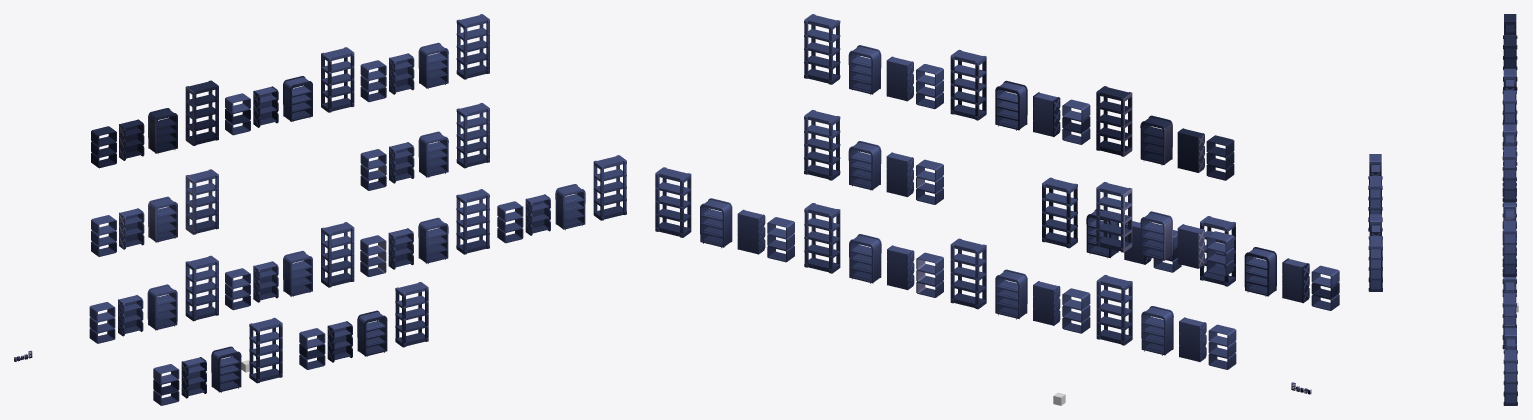
Rendered from Shelf5Layer_2 (1).fbx.
3 renders of one model, left to right at view 1: azimuth 30°, elevation 25°; view 2: azimuth 150°, elevation 25°; view 3: azimuth 270°, elevation 25°, orthographic. The views are drawn at different scales.
Parts seen in each view (by area): view 1: Shelf.012, Shelf.4, Shelf.032, Shelf.036, Shelf.020, Shelf.016, Shelf.044, Shelf.008, Shelf.024, Shelf.028, Shelf.040, Shelf.023 (+32 smaller); view 2: Shelf.016, Shelf.032, Shelf.4, Shelf.020, Shelf.008, Shelf.036, Shelf.012, Shelf.040, Shelf.028, Shelf.044, Shelf.007, Shelf.015 (+30 smaller); view 3: Shelf.040, Shelf.008, Shelf.028, Shelf.044, Shelf.024, Shelf.016, Shelf.036, Shelf.032, Shelf.033, Shelf.037, Shelf.005, Shelf.041 (+2 smaller).
Part boxes in pixels (x1,y1,x2,y2): Shelf.012: (185,255,218,321); Shelf.4: (185,169,218,234); Shelf.032: (185,80,218,145); Shelf.036: (321,47,354,112); Shelf.020: (321,222,354,287); Shelf.016: (456,189,489,254); Shelf.044: (395,282,428,347); Shelf.008: (593,155,626,220); Shelf.024: (249,317,282,383); Shelf.028: (456,103,489,168); Shelf.040: (456,14,489,79); Shelf.023: (211,346,241,392); Shelf.016: (804,203,840,273); Shelf.032: (1096,86,1132,156); Shelf.4: (1096,182,1132,252); Shelf.020: (950,238,986,309); Shelf.008: (655,167,691,237); Shelf.036: (950,49,986,120); Shelf.012: (1096,275,1132,345); Shelf.040: (804,14,840,84); Shelf.028: (804,110,840,180); Shelf.044: (1042,177,1077,248); Shelf.007: (700,198,732,248); Shelf.015: (849,234,881,283); Shelf.040: (1502,146,1516,202); Shelf.008: (1503,350,1517,405); Shelf.028: (1502,221,1516,276); Shelf.044: (1368,236,1382,291); Shelf.024: (1368,176,1382,231); Shelf.016: (1502,293,1516,349); Shelf.036: (1502,90,1516,146); Shelf.032: (1503,35,1517,90); Shelf.033: (1503,68,1515,90); Shelf.037: (1503,124,1515,146); Shelf.005: (1504,328,1516,349); Shelf.041: (1369,214,1381,235).
Bounding box in the file's own units: 16603 × 7803 × 4235.
Materials: 1 (1 with a texture image).
